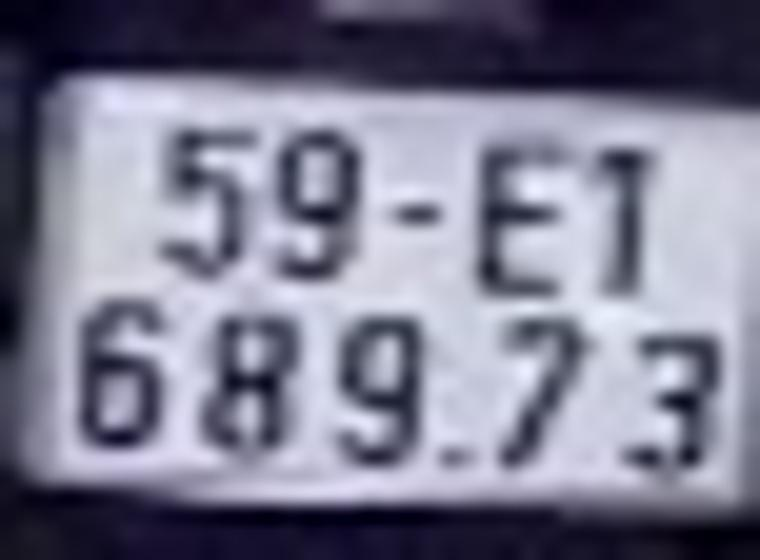-: (384, 191, 452, 230)
.: (432, 437, 484, 474)
1: (599, 132, 648, 304)
3: (617, 322, 721, 479)
5: (160, 125, 250, 284)
6: (77, 294, 178, 448)
7: (494, 307, 594, 476)
8: (204, 306, 301, 457)
9: (272, 118, 365, 291), (337, 306, 427, 473)
E: (472, 135, 574, 303)
